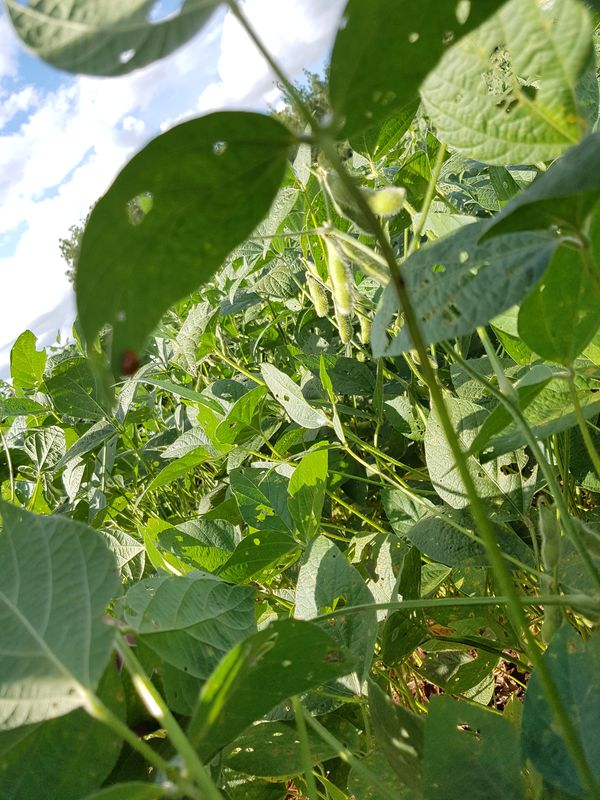Coccinellidae: (108, 342, 151, 384)
